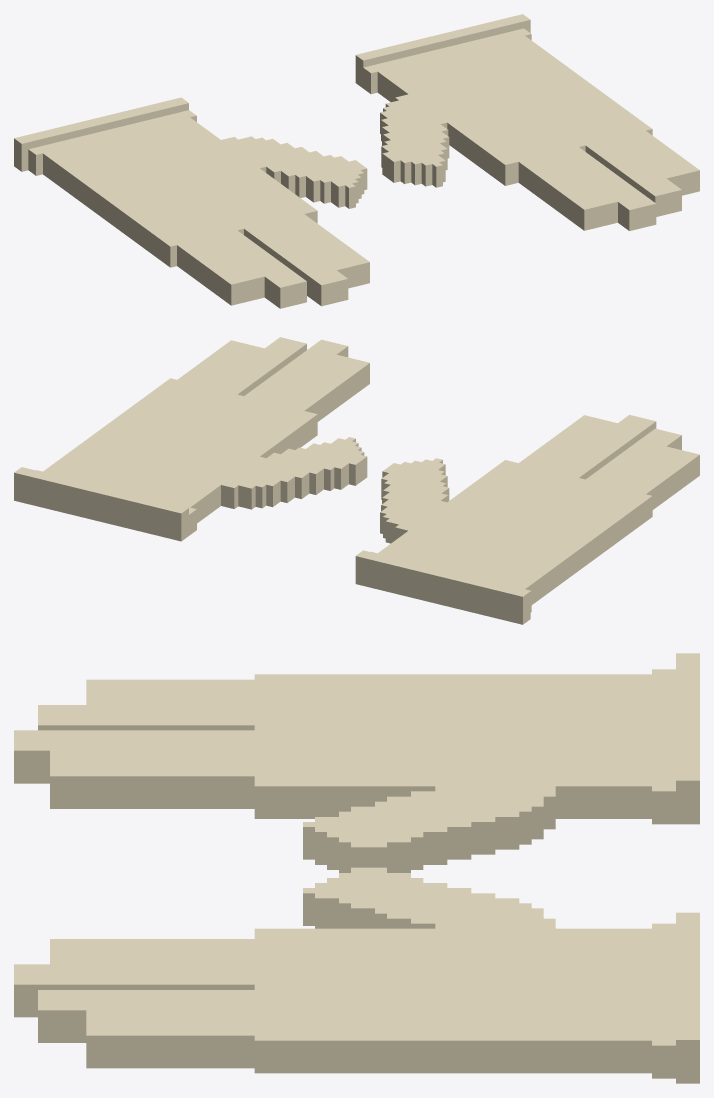
The model's file is gloves_light.glb.
3 renders of one model, top to bottom at view 1: azimuth 30°, elevation 25°; view 2: azimuth 150°, elevation 25°; view 3: azimuth 270°, elevation 25°, orthographic. The views are drawn at different scales.
Visible parts, largest first — view 1: gloves_light:compound; view 2: gloves_light:compound; view 3: gloves_light:compound.
Boxes of the visible parts, x1=… form: gloves_light:compound: x1=14, y1=14, x2=699, y2=308; gloves_light:compound: x1=14, y1=337, x2=699, y2=624; gloves_light:compound: x1=14, y1=653, x2=699, y2=1083.
Size of the model in its own units: 0.304 by 0.016 by 0.228.
